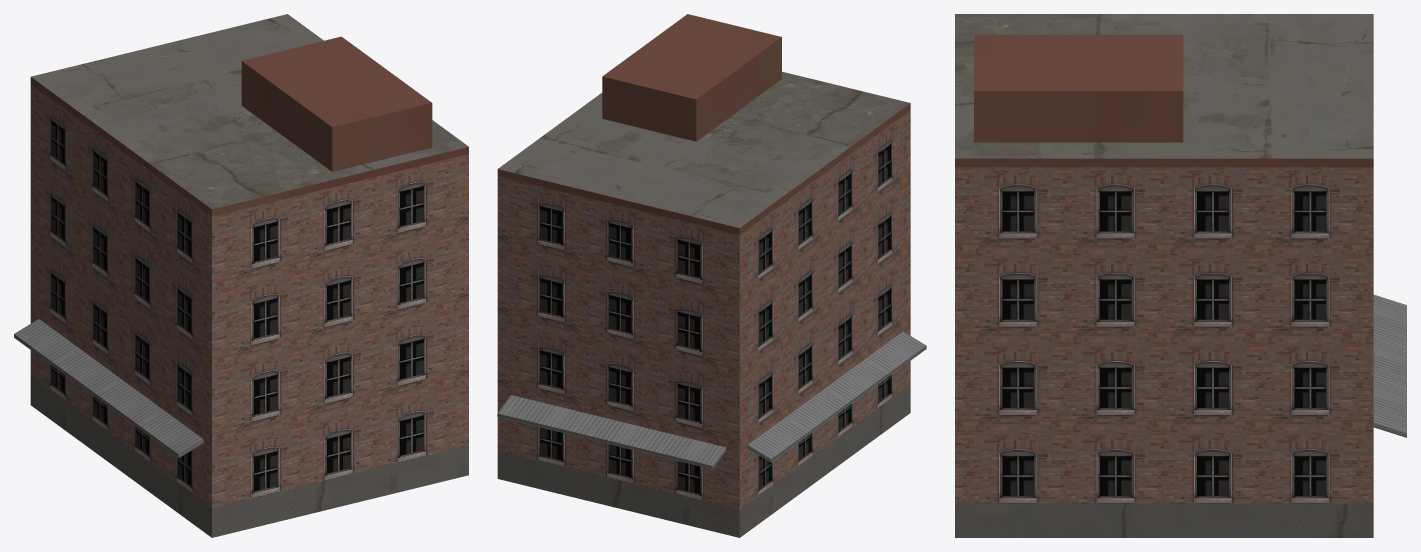
3 renders of one model, left to right at view 1: azimuth 30°, elevation 25°; view 2: azimuth 150°, elevation 25°; view 3: azimuth 270°, elevation 25°, orthographic. The views are drawn at different scales.
Parts seen in each view (by area): view 1: body0_model0_lod0_mesh3, body0_model0_lod0_mesh2, body0_model0_lod0_mesh1, body0_model0_lod0_mesh0; view 2: body0_model0_lod0_mesh3, body0_model0_lod0_mesh2, body0_model0_lod0_mesh1, body0_model0_lod0_mesh0; view 3: body0_model0_lod0_mesh3, body0_model0_lod0_mesh2, body0_model0_lod0_mesh1, body0_model0_lod0_mesh0.
Boxes of the visible parts, x1,y1,x2,y2 form: body0_model0_lod0_mesh3: (30, 84, 468, 507); body0_model0_lod0_mesh2: (30, 14, 468, 537); body0_model0_lod0_mesh1: (30, 36, 468, 216); body0_model0_lod0_mesh0: (14, 319, 203, 457); body0_model0_lod0_mesh3: (497, 110, 910, 509); body0_model0_lod0_mesh2: (497, 71, 910, 537); body0_model0_lod0_mesh1: (497, 14, 910, 234); body0_model0_lod0_mesh0: (497, 331, 926, 469); body0_model0_lod0_mesh3: (955, 167, 1373, 503); body0_model0_lod0_mesh2: (955, 14, 1373, 537); body0_model0_lod0_mesh1: (955, 34, 1373, 167); body0_model0_lod0_mesh0: (1373, 294, 1406, 437).
Size of the model in its own units: 39.5 by 49.99 by 47.5.
Materials: 4 (4 with a texture image).
